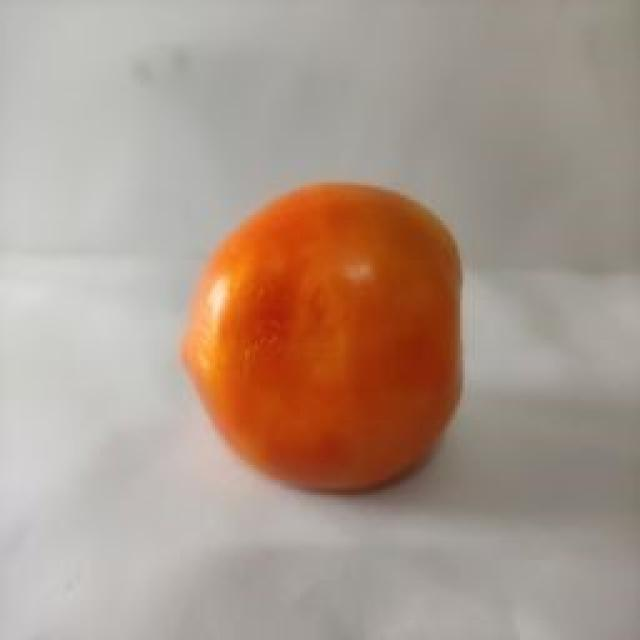Ripe: (177, 175, 473, 502)
